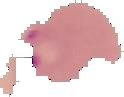parasitized: (23, 21, 51, 77)
